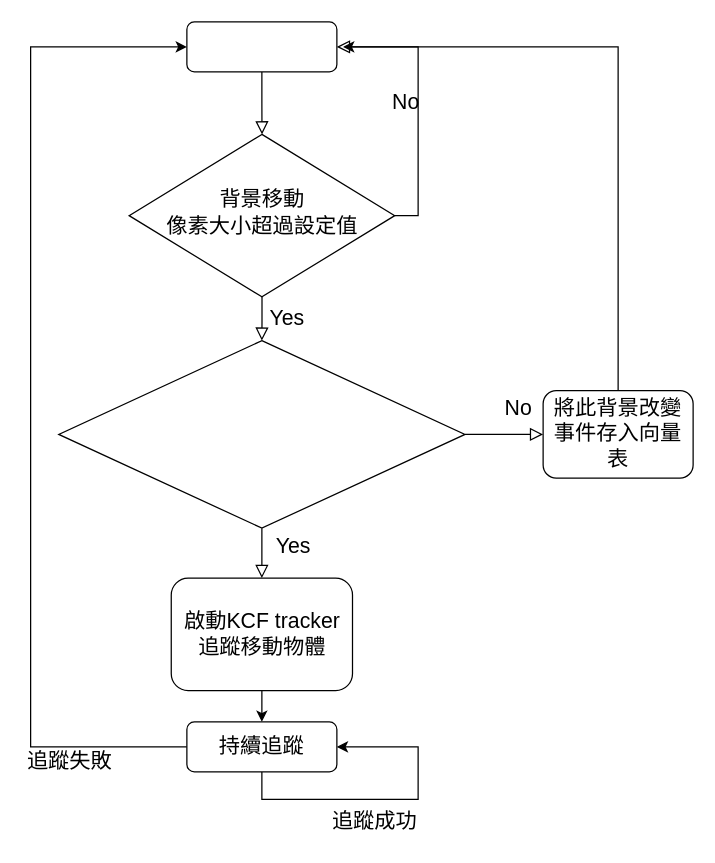
The diagram is 715 pixels wide and 863 high, and some of its shapes have lost their labels. The shapes that lost their labels are listed below. From the top down, each one's centre as x and y in pixels, then its label:
point (261, 46): 背景有改變的狀況
point (261, 433): 檢查向量表 是否之前有相似的背景移動狀況 重複數量超越設定值
